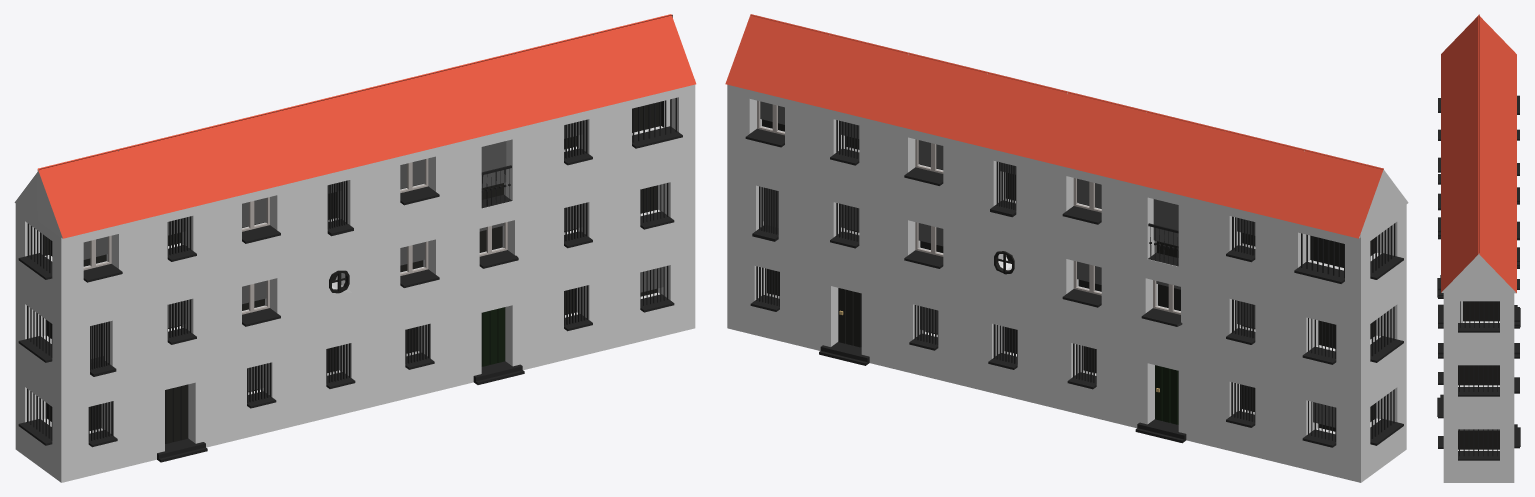
The model's file is Casa_Procedural_10.fbx.
3 renders of one model, left to right at view 1: azimuth 30°, elevation 25°; view 2: azimuth 150°, elevation 25°; view 3: azimuth 270°, elevation 25°, orthographic. The views are drawn at different scales.
Visible parts, largest first — view 1: 10; view 2: 10; view 3: 10.
Part boxes in pixels (x1=…): 10: x1=14, y1=14, x2=696, y2=482; 10: x1=725, y1=14, x2=1408, y2=482; 10: x1=1437, y1=14, x2=1520, y2=482.
Bounding box in the file's own units: 816 × 359 × 118.
